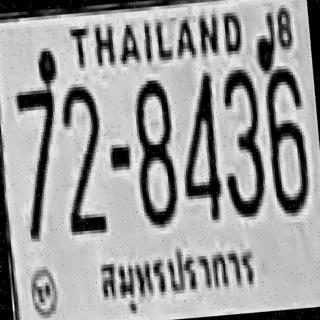N02: (58, 82, 108, 235)
N03: (216, 65, 265, 215)
N04: (173, 70, 222, 220)
N06: (261, 65, 309, 214)
N07: (14, 86, 66, 239), (15, 86, 60, 188)
N08: (129, 76, 179, 226)
